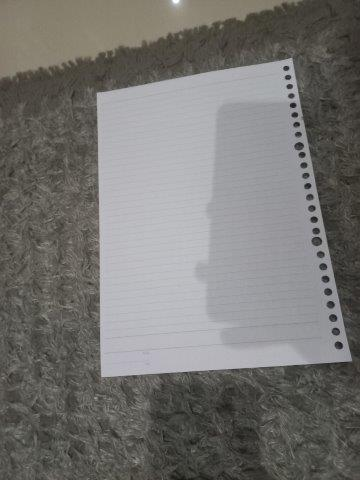kertas: (96, 57, 348, 376)
